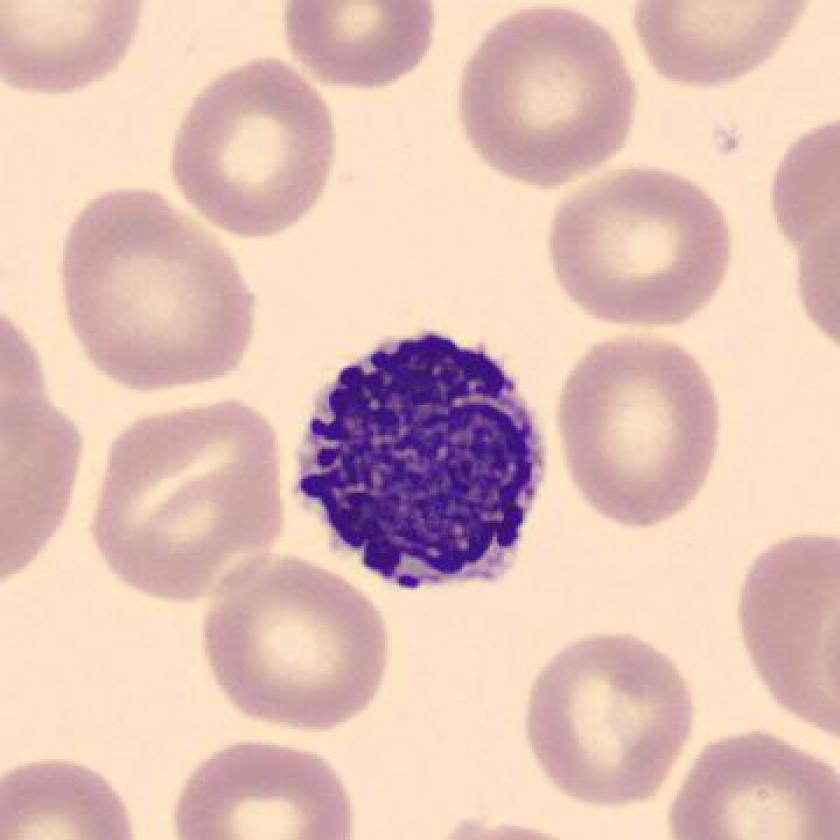basophil: (288, 318, 559, 610)
